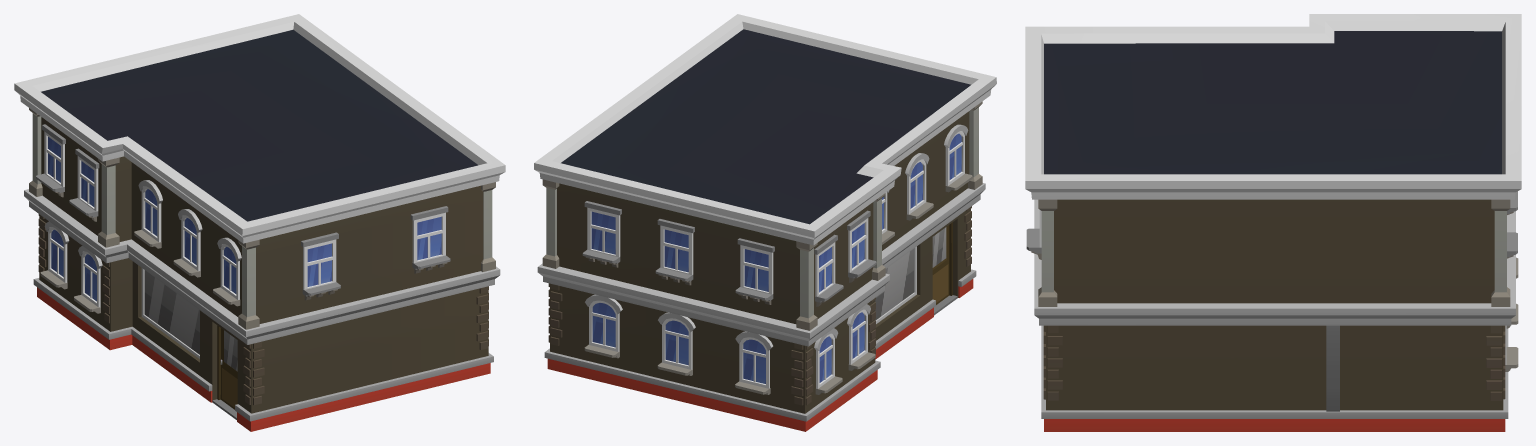
File: Building_1_2_J.fbx
3 views of the same model, side by side, from view 1: azimuth 30°, elevation 25°; view 2: azimuth 150°, elevation 25°; view 3: azimuth 270°, elevation 25° (orthographic). The views are drawn at different scales.
Parts seen in each view (by area): view 1: Building_1_2_J; view 2: Building_1_2_J; view 3: Building_1_2_J.
Boxes of the visible parts, box(x1,y1,x2,y2) form: Building_1_2_J: box(14, 14, 505, 431); Building_1_2_J: box(534, 14, 996, 431); Building_1_2_J: box(1025, 14, 1521, 431).
Bounding box in the file's own units: 841 × 600 × 1057.
